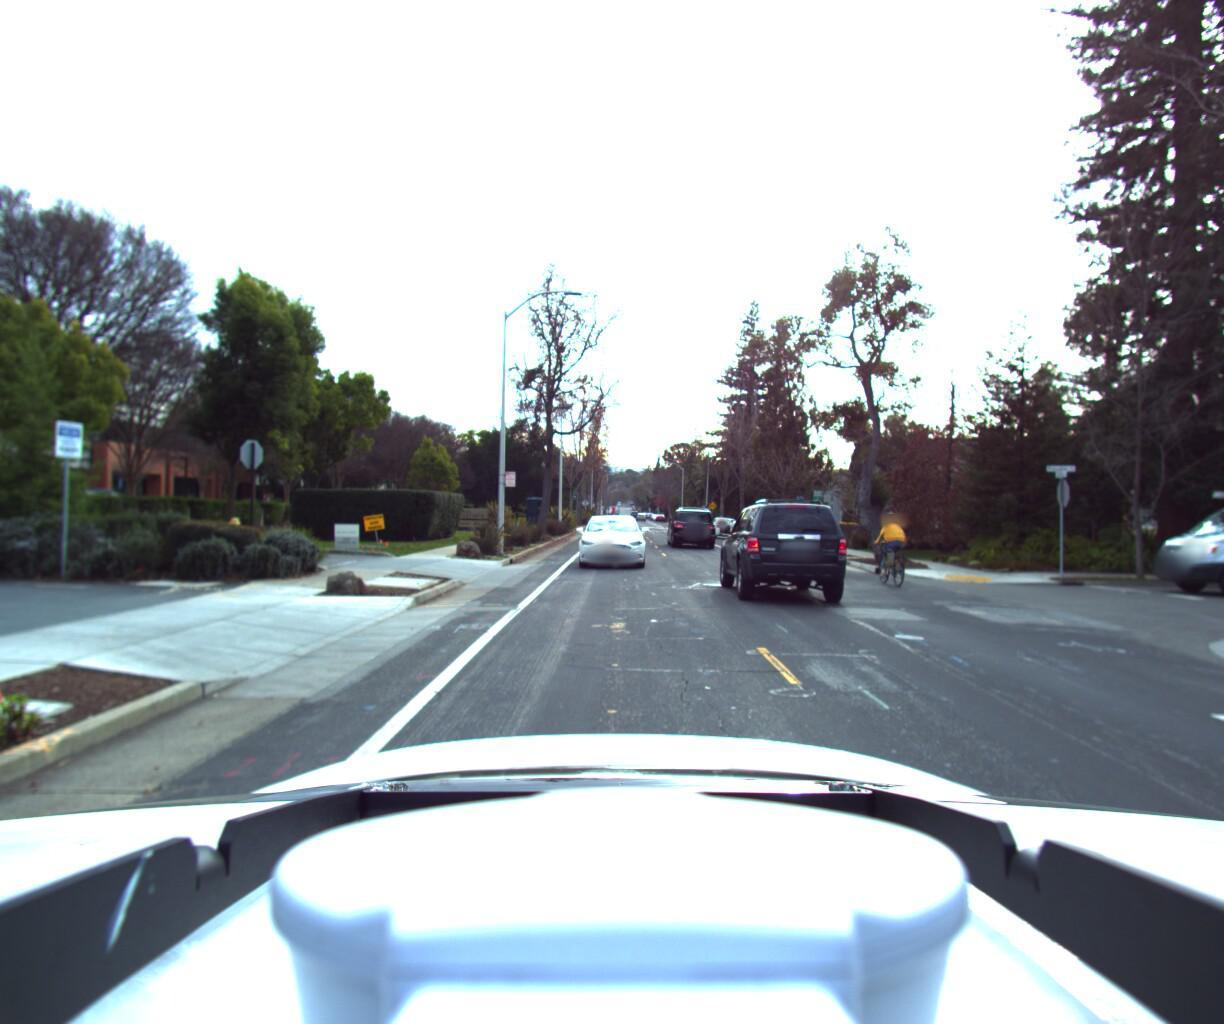bicycle: (860, 509, 913, 587)
car: (711, 497, 843, 600), (1130, 470, 1224, 600), (572, 509, 642, 568), (666, 501, 718, 547), (702, 516, 739, 539)
